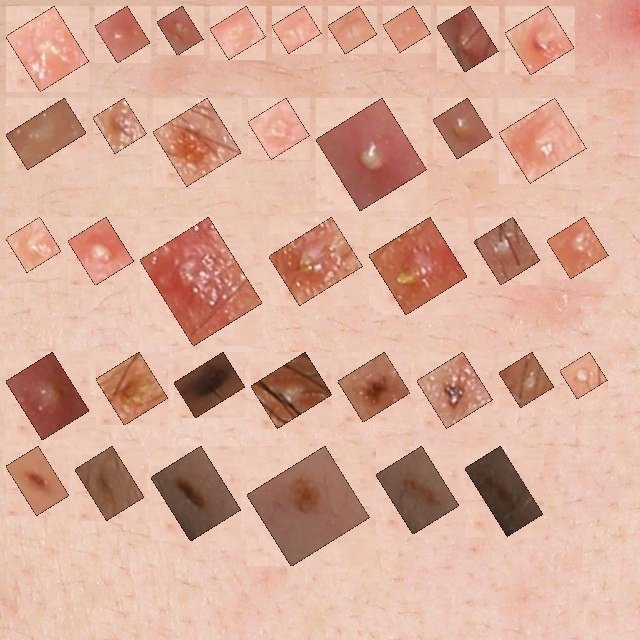hypertrophic_scar: (17, 109, 75, 158)
nevus: (258, 457, 359, 555), (162, 457, 230, 530), (164, 109, 230, 175), (428, 363, 481, 417), (107, 363, 157, 414), (86, 457, 133, 509), (349, 363, 399, 411), (185, 363, 234, 406), (17, 457, 58, 504), (104, 109, 136, 142)
pustule: (151, 228, 251, 335), (327, 109, 416, 200), (380, 228, 456, 303), (280, 228, 351, 294), (510, 109, 575, 172), (17, 363, 78, 429), (17, 17, 78, 80), (262, 363, 321, 417), (516, 17, 563, 64), (79, 228, 123, 274), (485, 228, 529, 274), (448, 17, 487, 61), (259, 109, 298, 148), (558, 228, 597, 267), (444, 109, 481, 148), (106, 17, 139, 52), (17, 228, 50, 261), (510, 363, 543, 396), (221, 17, 255, 48), (339, 17, 366, 43), (283, 17, 310, 42), (168, 17, 192, 44), (571, 363, 596, 388), (394, 17, 419, 41)
